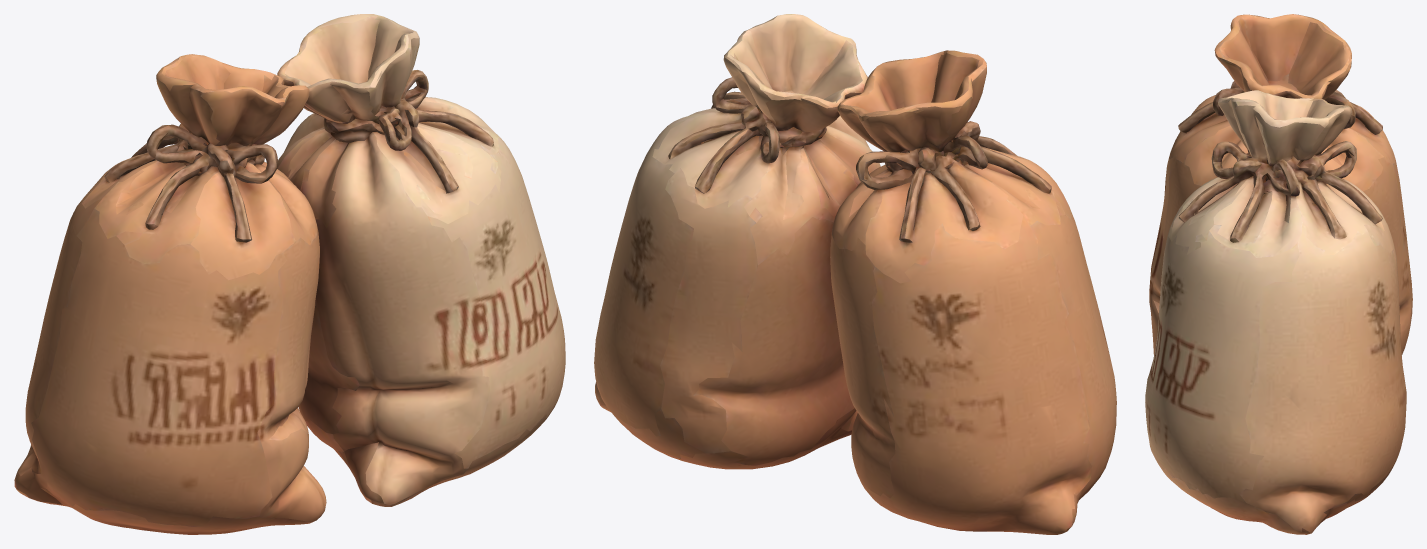
File: x-sacks.glb
The picture shows the model from 3 angles, left to right: view 1: azimuth 30°, elevation 25°; view 2: azimuth 150°, elevation 25°; view 3: azimuth 270°, elevation 25°; orthographic projection. The views are drawn at different scales.
Visible parts, largest first — view 1: geometry_0; view 2: geometry_0; view 3: geometry_0.
Boxes of the visible parts, x1,y1,x2,y2 form: geometry_0: (14,14,565,534); geometry_0: (594,14,1116,534); geometry_0: (1145,14,1412,534).
Bounding box in the file's own units: 0.4269 × 0.35 × 0.2207.
1 material, 1 textured.
